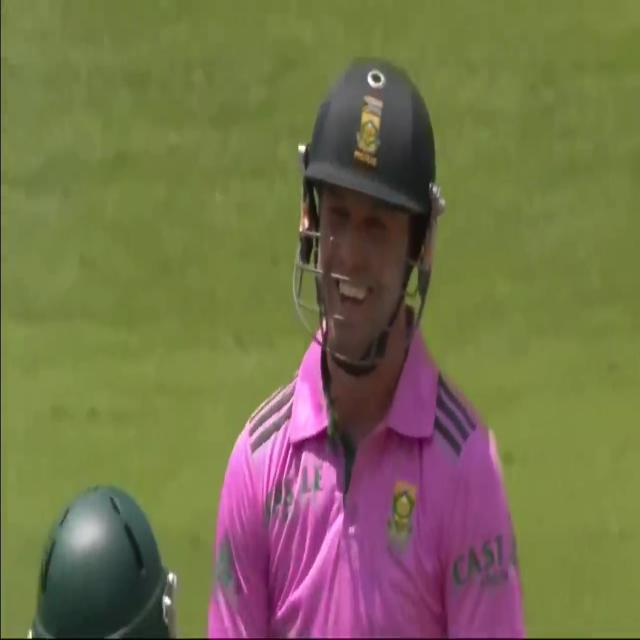Ball: (202, 36, 535, 638), (2, 483, 209, 639)
